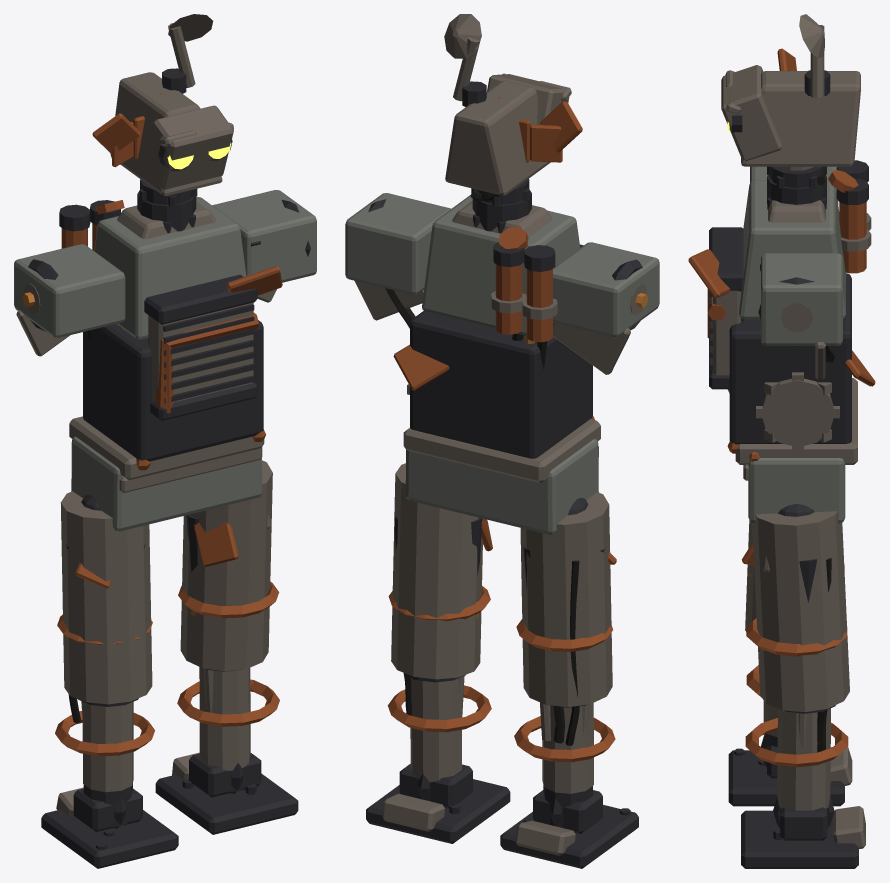
File: ch_courier.glb
3 views of the same model, side by side, from view 1: azimuth 30°, elevation 25°; view 2: azimuth 150°, elevation 25°; view 3: azimuth 270°, elevation 25° (orthographic). The views are drawn at different scales.
Visible parts, largest first — view 1: ch_courier, limb_leg_l, limb_leg_r; view 2: ch_courier, limb_leg_l, limb_leg_r; view 3: ch_courier, limb_leg_r, limb_leg_l.
Part boxes in pixels (bbox=[...]): ch_courier: bbox=[14, 14, 316, 531]; limb_leg_l: bbox=[41, 491, 178, 868]; limb_leg_r: bbox=[155, 460, 298, 834]; ch_courier: bbox=[345, 14, 659, 534]; limb_leg_l: bbox=[500, 492, 638, 868]; limb_leg_r: bbox=[366, 463, 510, 843]; ch_courier: bbox=[688, 14, 875, 523]; limb_leg_r: bbox=[741, 504, 865, 868]; limb_leg_l: bbox=[728, 520, 852, 806].
Bounding box in the file's own units: 0.2971 × 0.813 × 0.1688.
